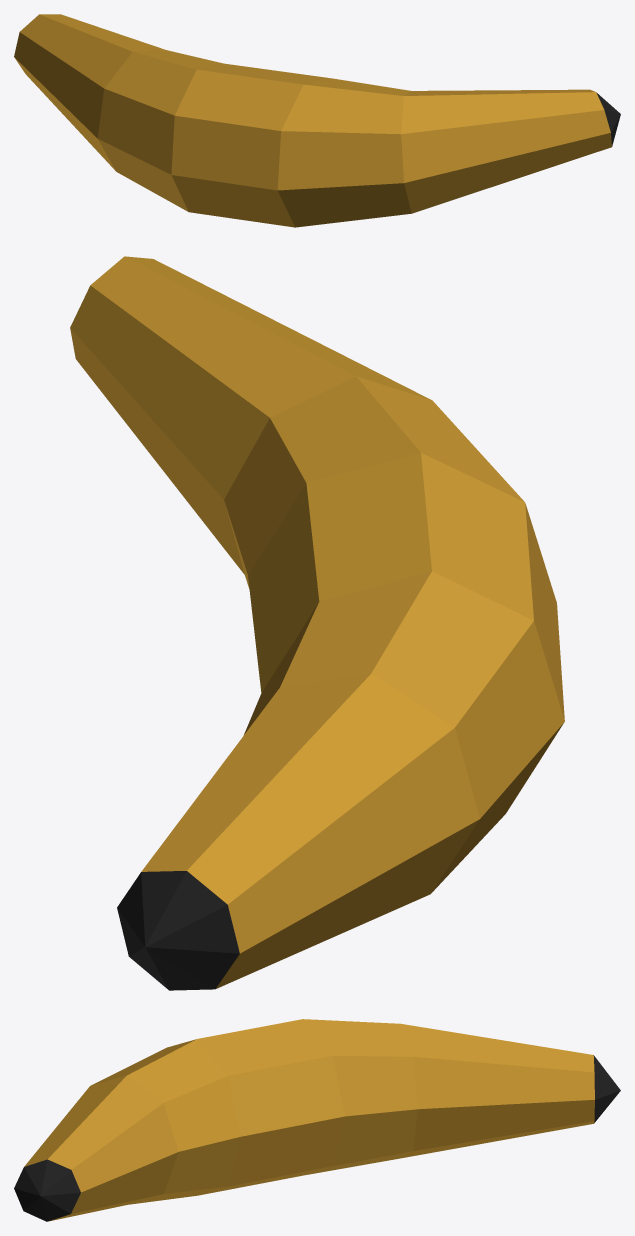
Rendered from banana.fbx.
The picture shows the model from 3 angles, top to bottom: view 1: azimuth 30°, elevation 25°; view 2: azimuth 150°, elevation 25°; view 3: azimuth 270°, elevation 25°; orthographic projection. The views are drawn at different scales.
Visible parts, largest first — view 1: pCylinder16; view 2: pCylinder16; view 3: pCylinder16.
Boxes of the visible parts, x1,y1,x2,y2 form: pCylinder16: (14,14,620,227); pCylinder16: (70,256,564,990); pCylinder16: (14,1019,620,1221).
Size of the model in its own units: 0.3535 by 0.1402 by 0.4972.
